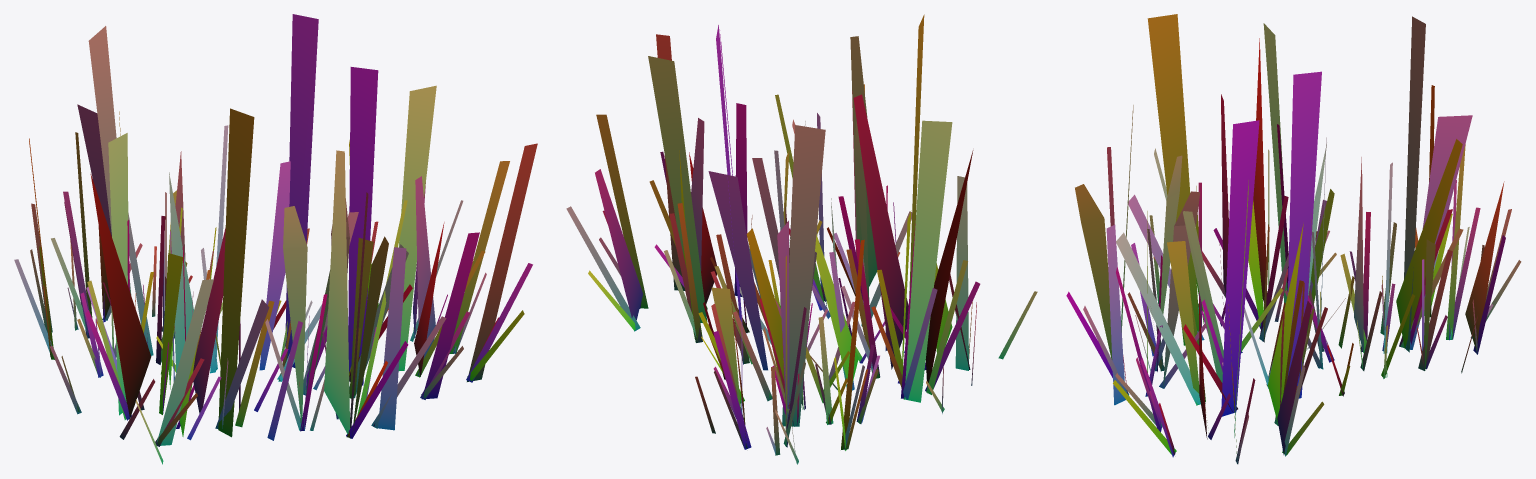
File: Nordic_Coastal_Groundcover_vlqkdeaja_Mid_vlqkdeaja_VarP_LOD2.fbx
The picture shows the model from 3 angles, left to right: view 1: azimuth 30°, elevation 25°; view 2: azimuth 150°, elevation 25°; view 3: azimuth 270°, elevation 25°; orthographic projection. The views are drawn at different scales.
Visible parts, largest first — view 1: _ab78_VarP_LOD4; view 2: _ab78_VarP_LOD4; view 3: _ab78_VarP_LOD4.
Boxes of the visible parts, box(x1,y1,x2,y2) form: _ab78_VarP_LOD4: box(14, 14, 537, 464); _ab78_VarP_LOD4: box(566, 14, 1037, 464); _ab78_VarP_LOD4: box(1066, 14, 1521, 464).
Size of the model in its own units: 98.09 by 77.73 by 94.22.
